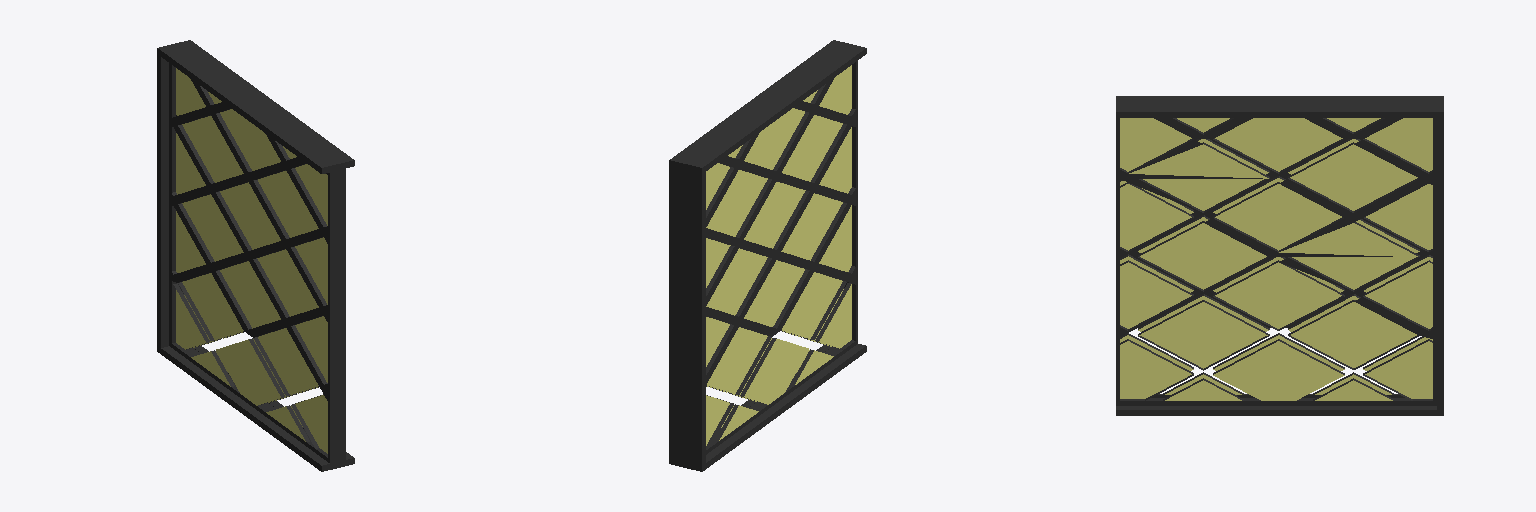
File: Filter.obj
3 views of the same model, side by side, from view 1: azimuth 30°, elevation 25°; view 2: azimuth 150°, elevation 25°; view 3: azimuth 270°, elevation 25° (orthographic).
Visible parts, largest first — view 1: Filter; view 2: Filter; view 3: Filter.
Part boxes in pixels (x1,y1,x2,y2): Filter: (157,40,354,471); Filter: (669,40,866,471); Filter: (1116,96,1443,415).
Size of the model in its own units: 0.1972 by 1.75 by 1.71.